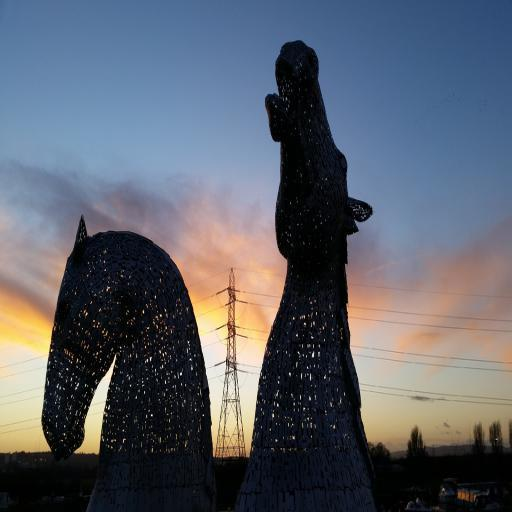horse: (40, 224, 217, 512)
